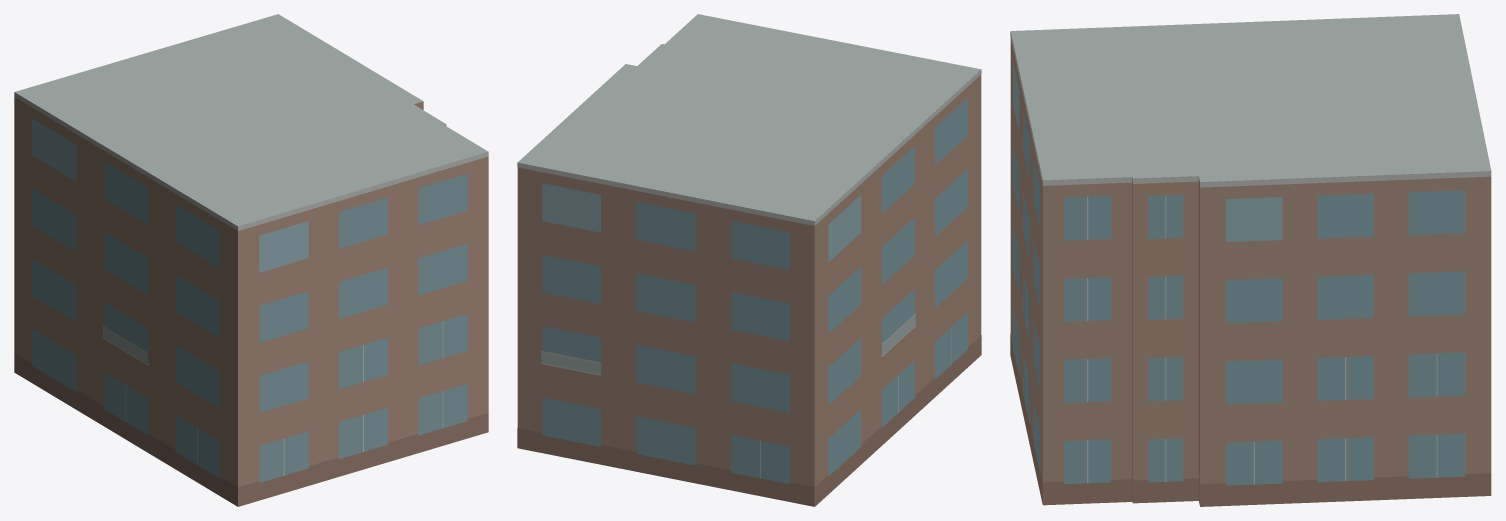
The model's file is survey-upis-32920180.glb.
3 renders of one model, left to right at view 1: azimuth 30°, elevation 25°; view 2: azimuth 150°, elevation 25°; view 3: azimuth 270°, elevation 25°, orthographic. The views are drawn at different scales.
Visible parts, largest first — view 1: survey-upis-32920180.tmp; view 2: survey-upis-32920180.tmp; view 3: survey-upis-32920180.tmp.
Part boxes in pixels (left/top/right/bottom): survey-upis-32920180.tmp: left=14, top=14, right=488, bottom=506; survey-upis-32920180.tmp: left=517, top=14, right=981, bottom=506; survey-upis-32920180.tmp: left=1010, top=14, right=1491, bottom=506.
Bounding box in the file's own units: 16.06 × 14.46 × 19.42.
